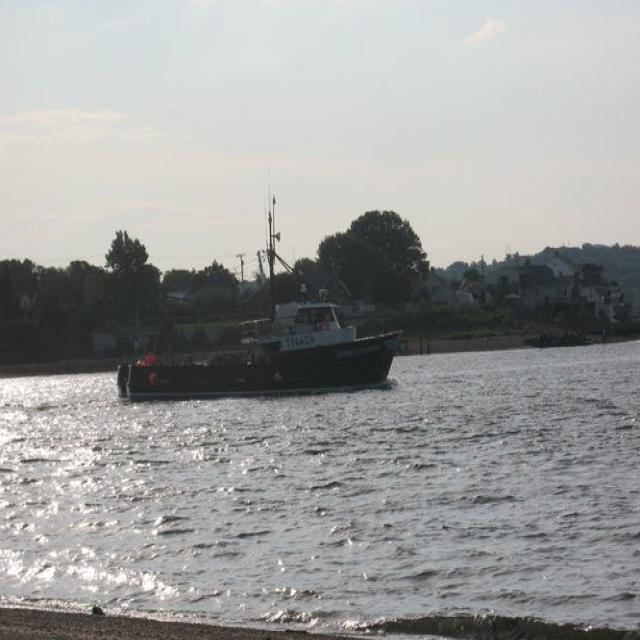fishing boat: (111, 264, 406, 408)
